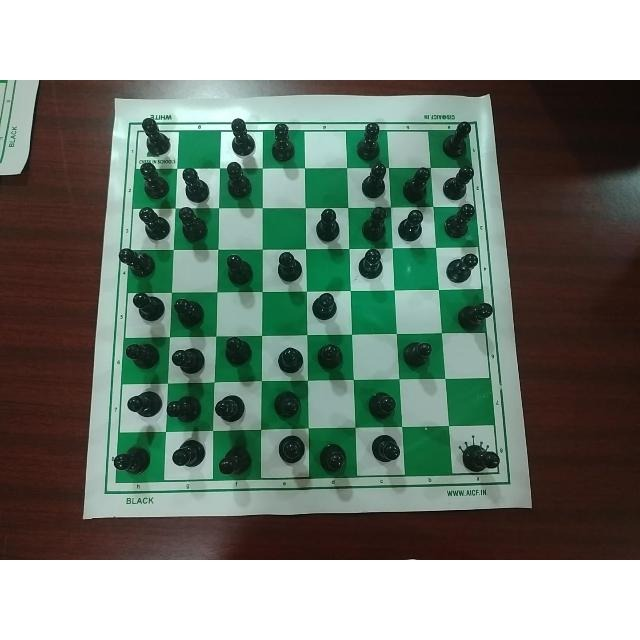black-pawn: (450, 292, 495, 333), (348, 118, 389, 159), (218, 116, 258, 158), (178, 160, 214, 204), (110, 445, 154, 481), (218, 161, 258, 200), (444, 160, 480, 202), (175, 206, 213, 245), (355, 204, 393, 243), (135, 206, 172, 246), (354, 160, 390, 201), (442, 113, 474, 159), (123, 339, 165, 374), (137, 162, 173, 202), (446, 248, 482, 288), (130, 286, 166, 326), (123, 385, 163, 421), (268, 116, 298, 163), (210, 390, 249, 426), (136, 116, 172, 154), (220, 249, 256, 287), (353, 246, 389, 284), (219, 331, 257, 367), (267, 387, 306, 421), (402, 162, 431, 207), (310, 209, 346, 245), (218, 446, 254, 482), (171, 290, 205, 328), (402, 338, 440, 372), (462, 443, 502, 475), (271, 250, 305, 286), (367, 389, 403, 423), (318, 441, 353, 475), (276, 434, 309, 470), (167, 393, 204, 425), (119, 245, 155, 277), (171, 439, 207, 471), (169, 344, 206, 375), (399, 208, 429, 244), (445, 204, 476, 238), (315, 342, 344, 378), (272, 346, 304, 378), (371, 433, 403, 465), (310, 290, 338, 322)
